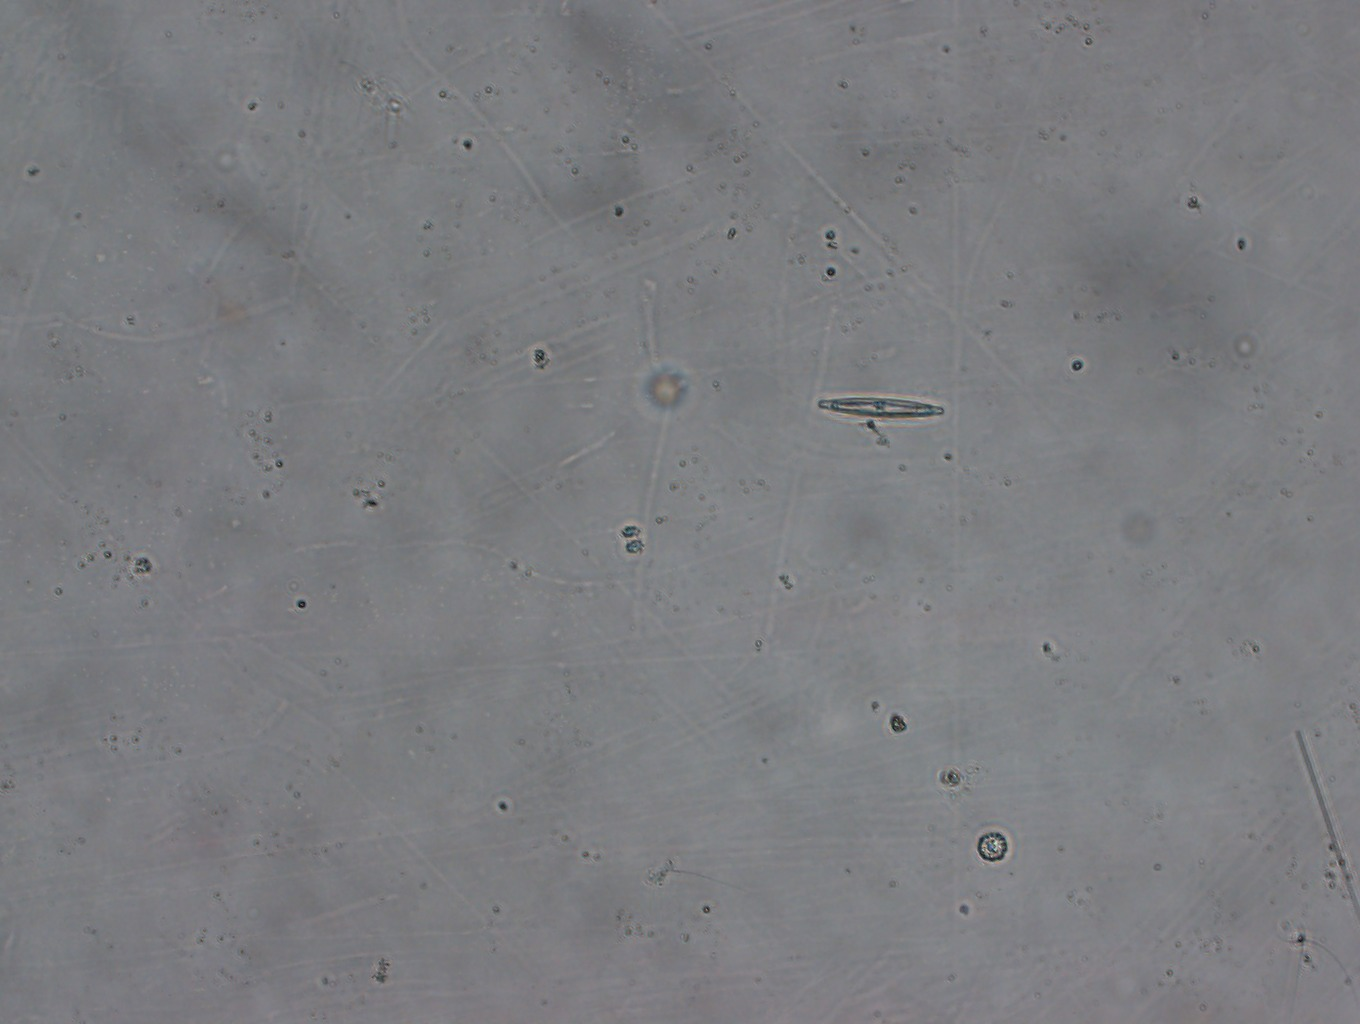navicula: (816, 396, 946, 419)
